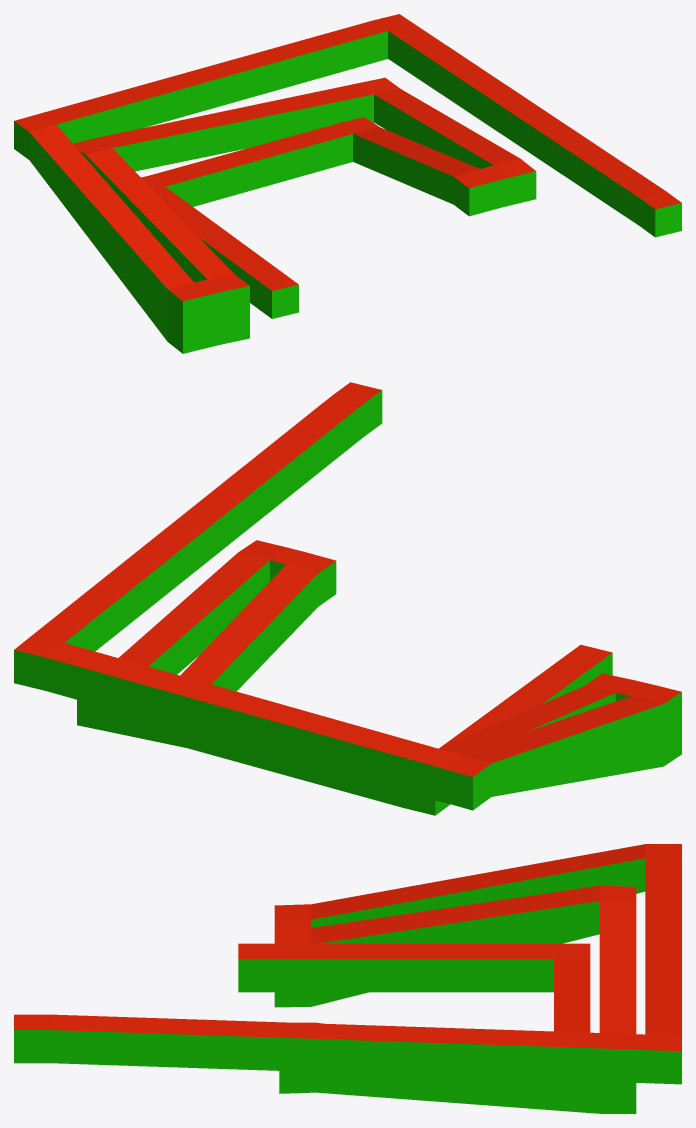
The model's file is CollapsingEscapeArea.fbx.
3 renders of one model, top to bottom at view 1: azimuth 30°, elevation 25°; view 2: azimuth 150°, elevation 25°; view 3: azimuth 270°, elevation 25°, orthographic. The views are drawn at different scales.
Parts seen in each view (by area): view 1: Plane; view 2: Plane; view 3: Plane.
Boxes of the visible parts, box(x1,y1,x2,y2) form: Plane: box(14, 14, 681, 353); Plane: box(14, 382, 681, 815); Plane: box(14, 844, 681, 1113).
Bounding box in the file's own units: 11600 × 3930 × 14600.
